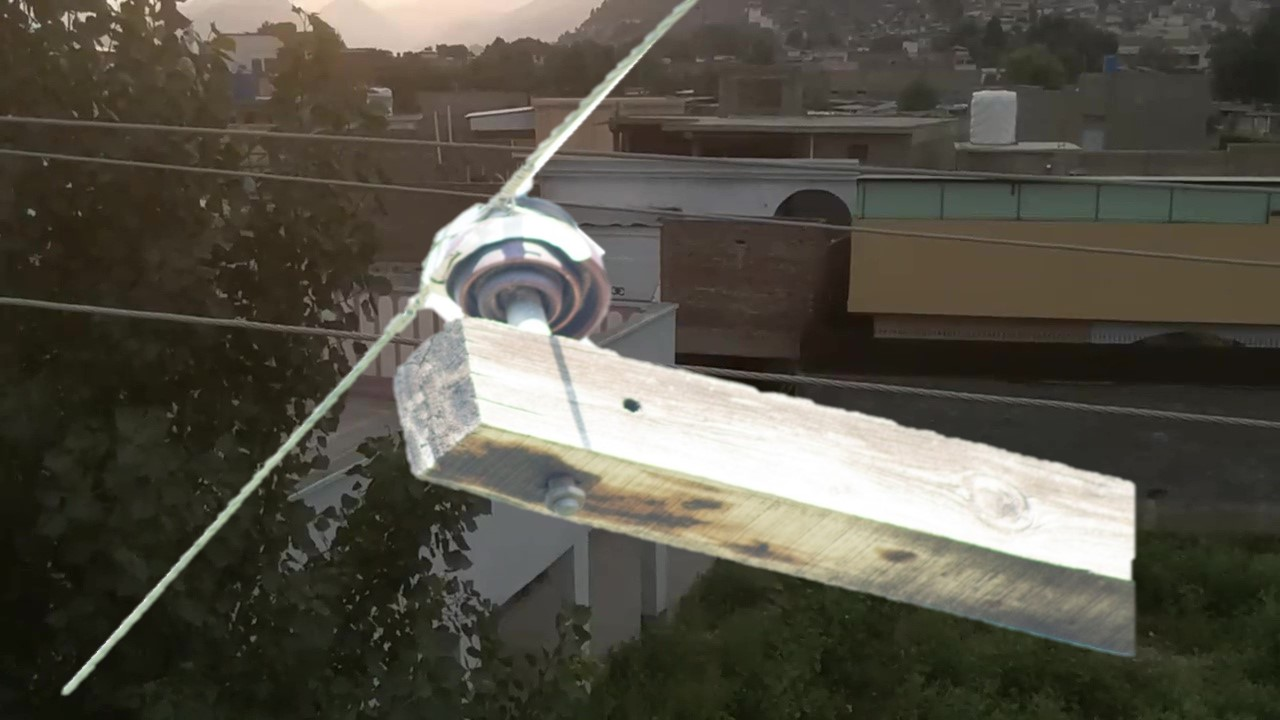defect_pin: (417, 192, 618, 332)
